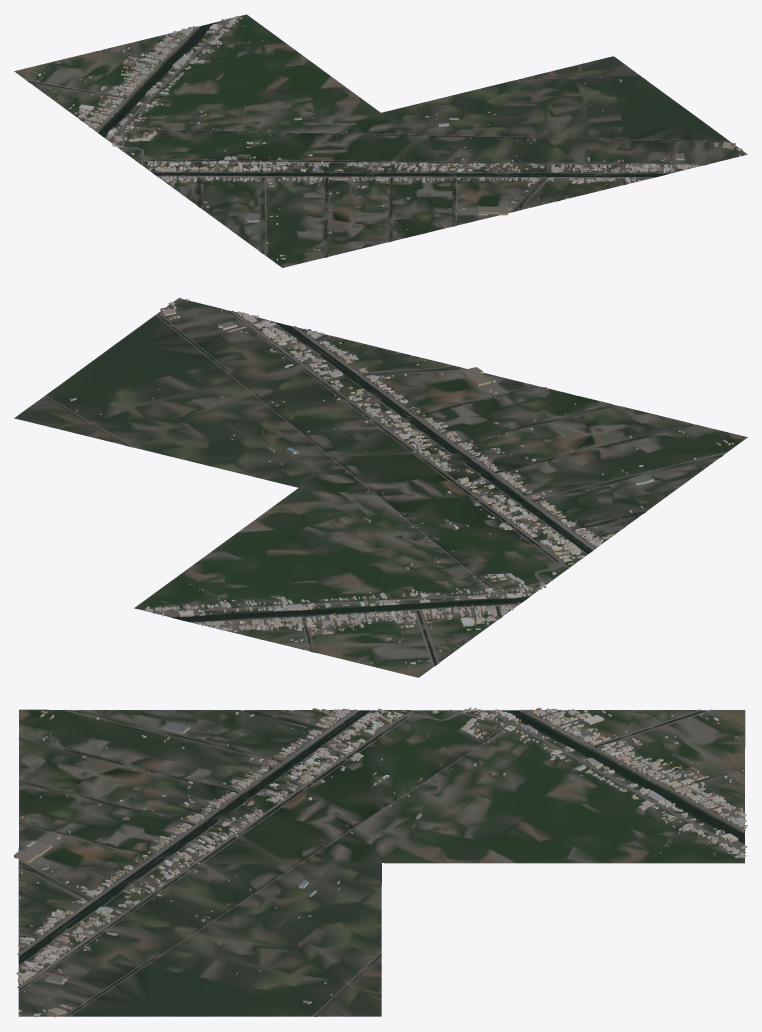
The picture shows the model from 3 angles, top to bottom: view 1: azimuth 30°, elevation 25°; view 2: azimuth 150°, elevation 25°; view 3: azimuth 270°, elevation 25°; orthographic projection. The views are drawn at different scales.
Visible parts, largest first — view 1: ground, buildings, roads, water; view 2: ground, buildings, roads, water; view 3: ground, buildings, roads, water.
Part boxes in pixels (x1,y1,x2,y2): ground: (14, 14, 747, 267); buildings: (35, 15, 746, 261); roads: (26, 18, 731, 255); water: (29, 22, 729, 257); ground: (14, 298, 747, 677); buildings: (69, 297, 733, 667); roads: (45, 309, 726, 666); water: (69, 310, 721, 664); ground: (18, 709, 745, 1016); buildings: (14, 707, 747, 1017); roads: (17, 709, 745, 1016); water: (18, 710, 744, 1016).
Bounding box in the file's own units: 2820 × 16.94 × 2831.
